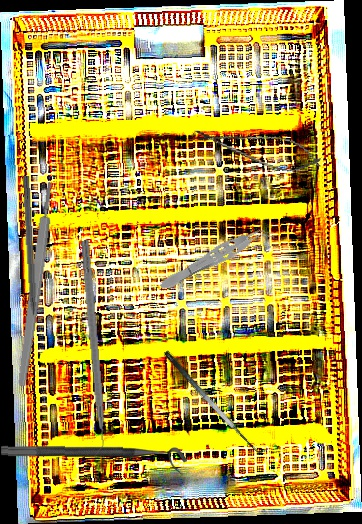Chopper: (69, 240, 108, 458)
Fixation Ring: (0, 444, 188, 475)
Hook Surgical: (20, 175, 39, 334)
Micro Scissor: (189, 119, 327, 179)
Scalpel Handle: (15, 181, 57, 387)
Spatula Surgical: (162, 342, 269, 461)
Tissue Forceps: (156, 220, 276, 296)
